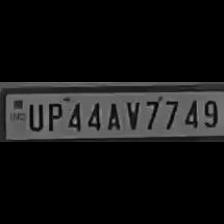4: (84, 97, 103, 130), (64, 99, 82, 131), (180, 97, 198, 129)
7: (141, 96, 159, 130), (160, 96, 178, 130)
9: (199, 96, 219, 128)
A: (102, 97, 122, 130)
P: (44, 98, 62, 132)
U: (24, 99, 43, 130)
V: (121, 97, 141, 130)
